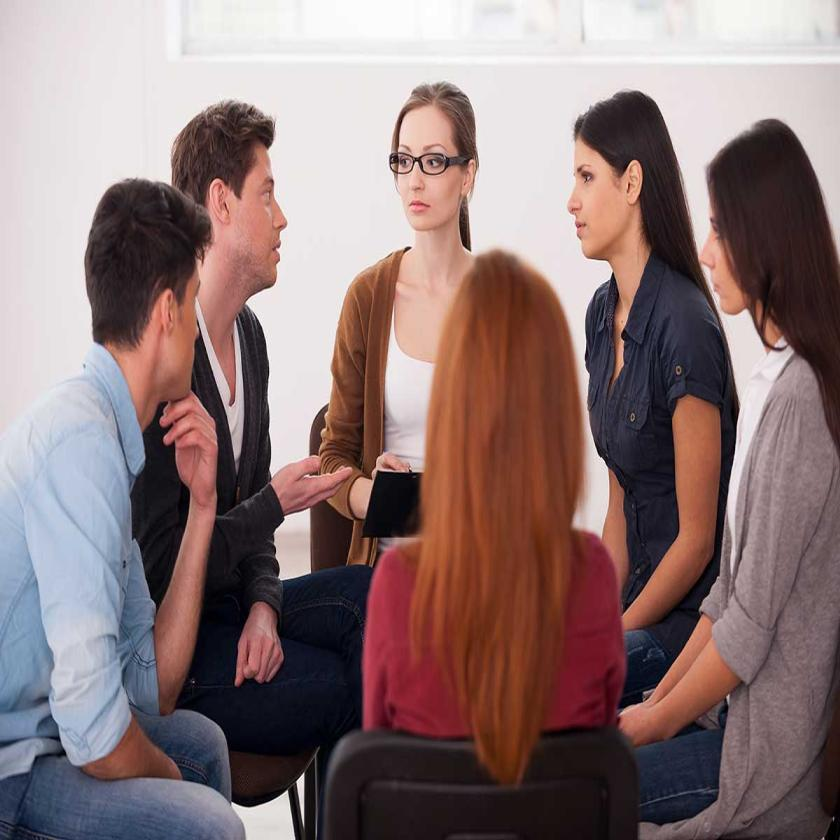Sin_casco: (694, 107, 812, 362), (86, 168, 204, 418), (560, 83, 677, 291), (175, 100, 288, 292), (391, 77, 484, 245)
